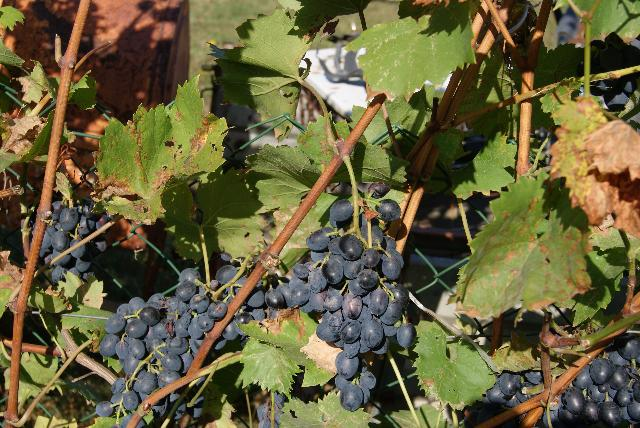grapes: (282, 200, 416, 411), (99, 265, 236, 420), (540, 332, 640, 428), (40, 201, 111, 262), (476, 371, 541, 424), (216, 282, 266, 349), (51, 242, 92, 284)
